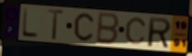B: (94, 11, 121, 47)
C: (124, 17, 148, 46), (73, 12, 95, 43)
L: (21, 7, 40, 39)
R: (147, 16, 173, 50)
T: (46, 8, 66, 42)
